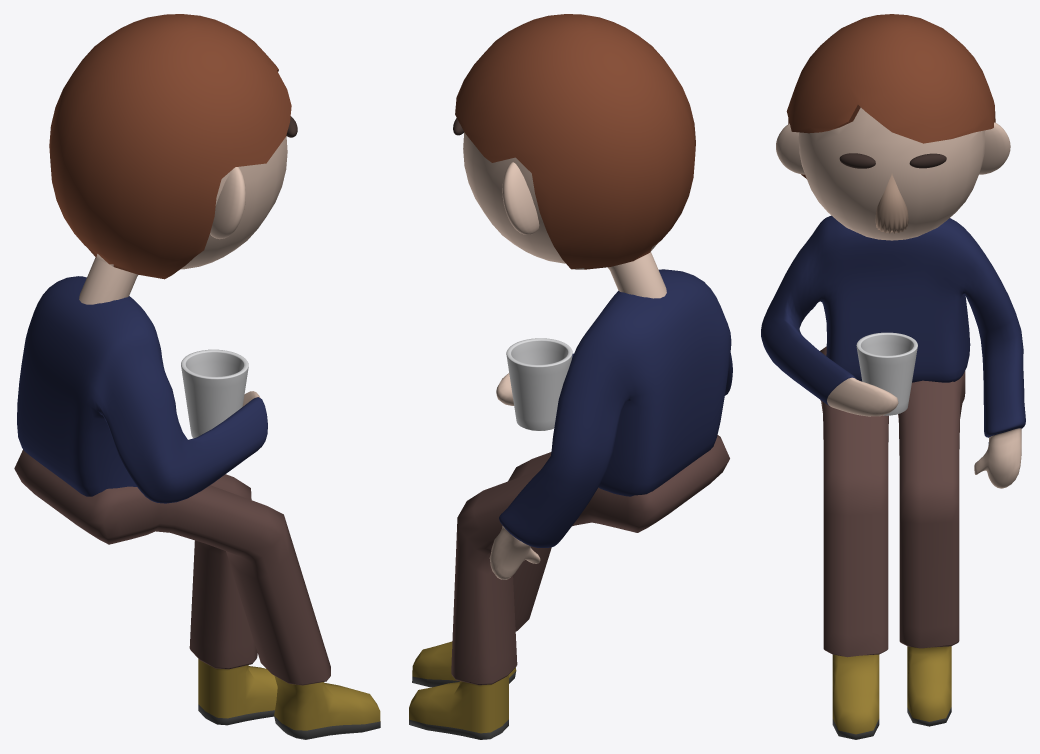
File: sitting NPC.fbx
3 renders of one model, left to right at view 1: azimuth 30°, elevation 25°; view 2: azimuth 150°, elevation 25°; view 3: azimuth 270°, elevation 25°, orthographic. The views are drawn at different scales.
Visible parts, largest first — view 1: pSphere10; view 2: pSphere10; view 3: pSphere10.
Part boxes in pixels (left/top/right/bottom): pSphere10: left=14, top=14, right=380, bottom=739; pSphere10: left=409, top=14, right=732, bottom=739; pSphere10: left=761, top=14, right=1025, bottom=739.
Size of the model in its own units: 5.31 by 11.96 by 4.47.
